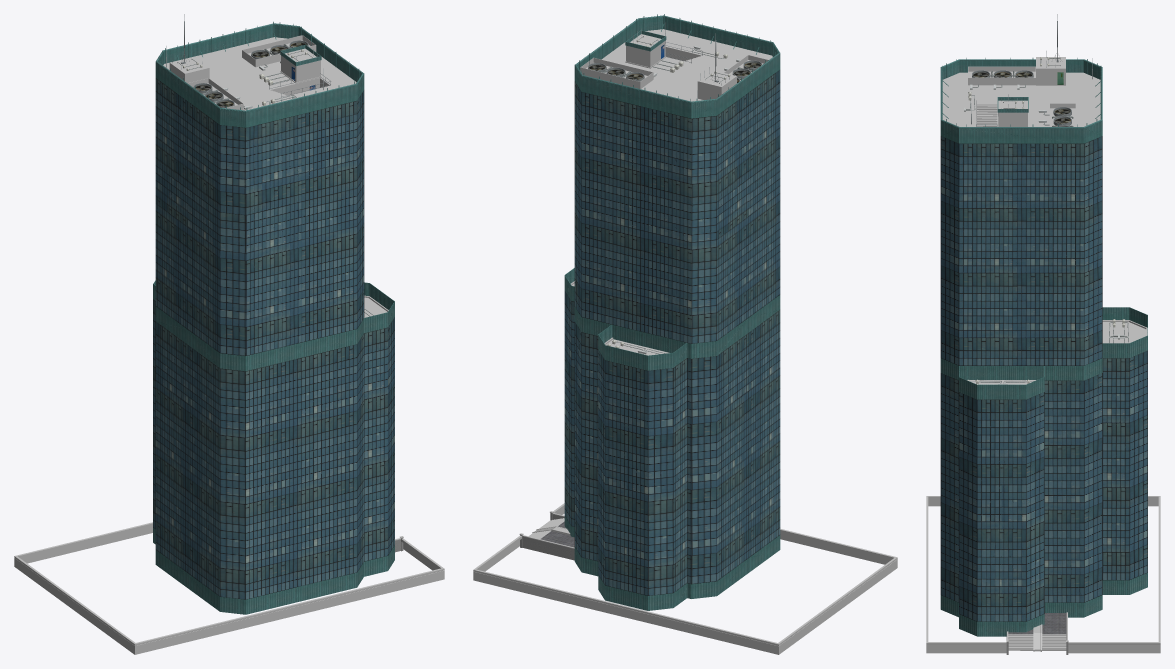
The model's file is u2WBuild3.gltf.
The picture shows the model from 3 angles, left to right: view 1: azimuth 30°, elevation 25°; view 2: azimuth 150°, elevation 25°; view 3: azimuth 270°, elevation 25°; orthographic projection. The views are drawn at different scales.
Parts seen in each view (by area): view 1: u2WBuild3; view 2: u2WBuild3; view 3: u2WBuild3.
Boxes of the visible parts, <box> form: u2WBuild3: <box>14,14,444,654</box>; u2WBuild3: <box>473,14,897,654</box>; u2WBuild3: <box>926,14,1160,654</box>.
Size of the model in its own units: 24.5 by 42.56 by 16.47.
